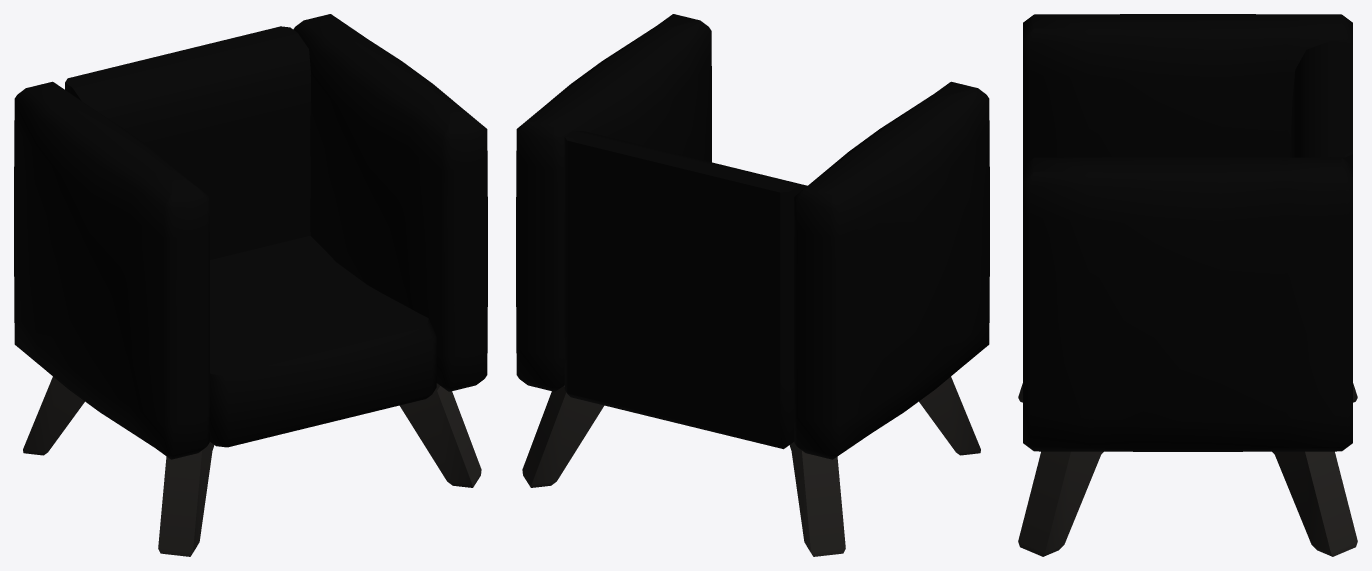
File: chair_single.fbx
3 renders of one model, left to right at view 1: azimuth 30°, elevation 25°; view 2: azimuth 150°, elevation 25°; view 3: azimuth 270°, elevation 25°, orthographic. The views are drawn at different scales.
Visible parts, largest first — view 1: single_chair; view 2: single_chair; view 3: single_chair.
Boxes of the visible parts, left/top/right/bottom form: single_chair: left=14, top=14, right=487, bottom=556; single_chair: left=516, top=14, right=989, bottom=556; single_chair: left=1018, top=14, right=1357, bottom=556.
Bounding box in the file's own units: 94.93 × 91.66 × 74.17.
